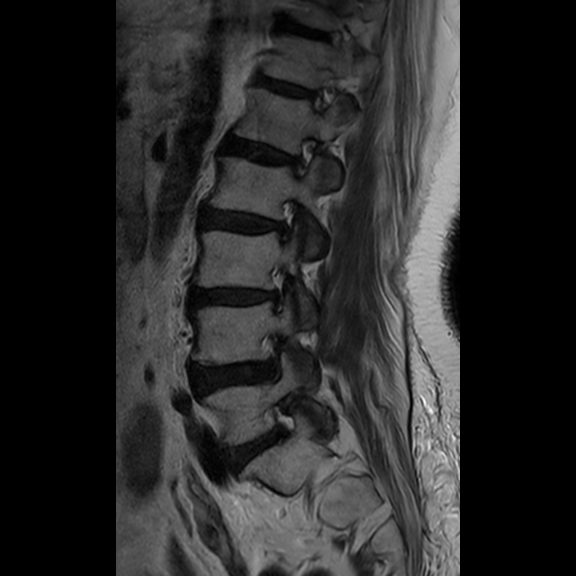LFS0: (278, 124, 324, 186)
LFS2: (253, 257, 305, 321), (266, 192, 319, 252)
LFS3: (252, 326, 306, 393)
